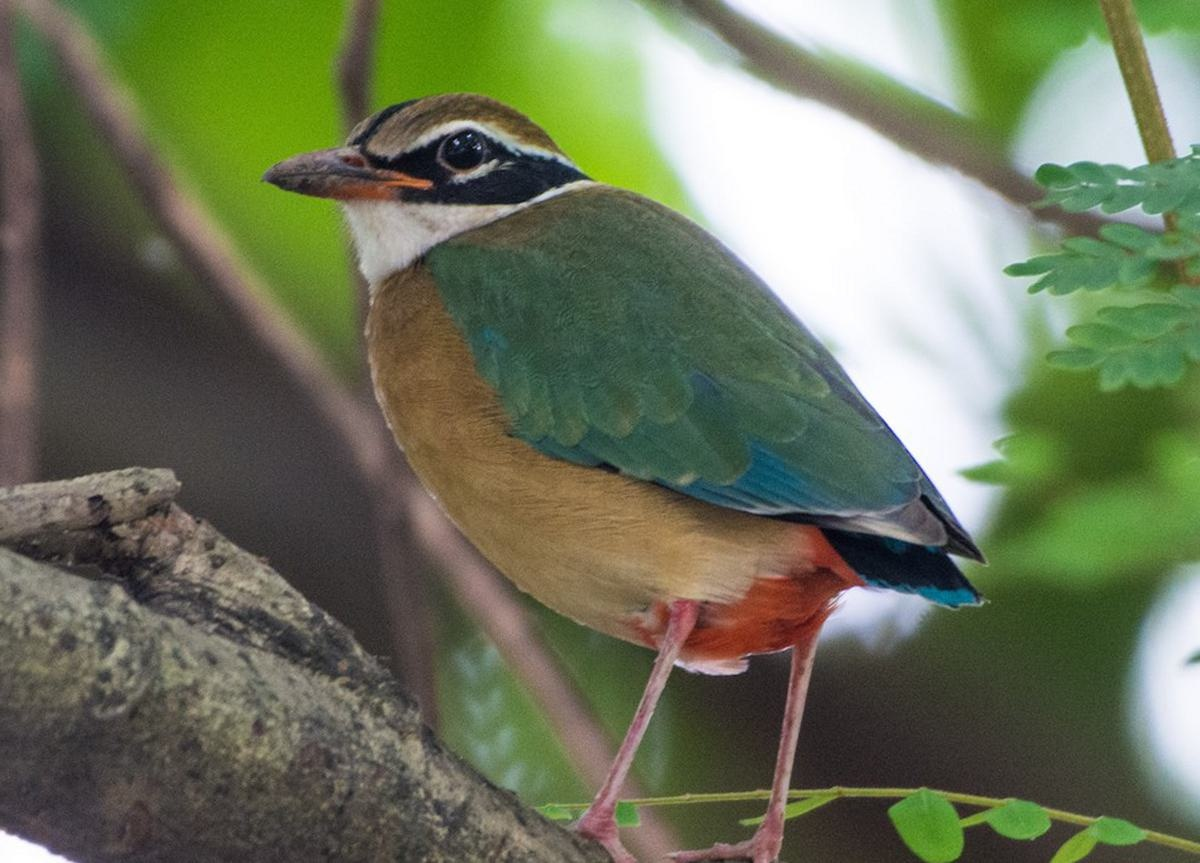pitta: (251, 91, 983, 837)
